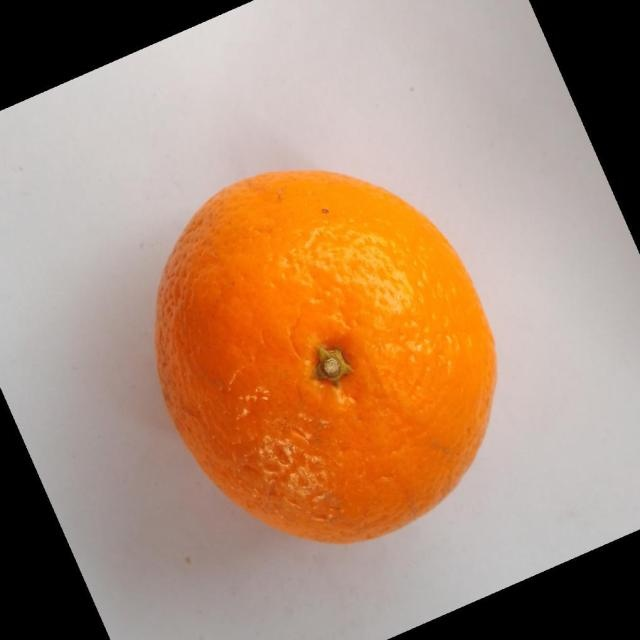agrume: (153, 167, 498, 545)
